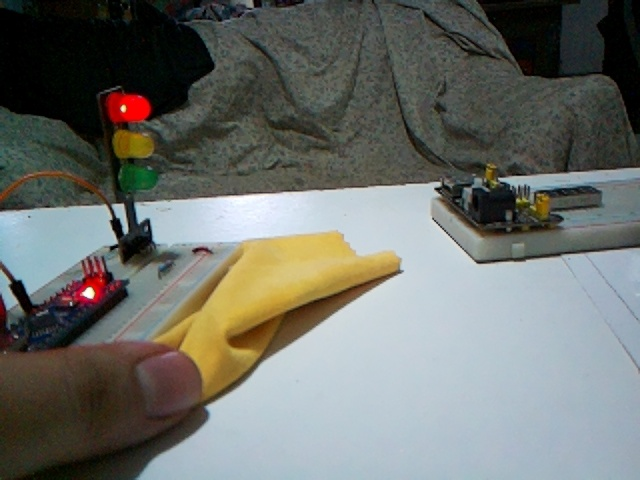traffic_light_red: (97, 85, 159, 259)
